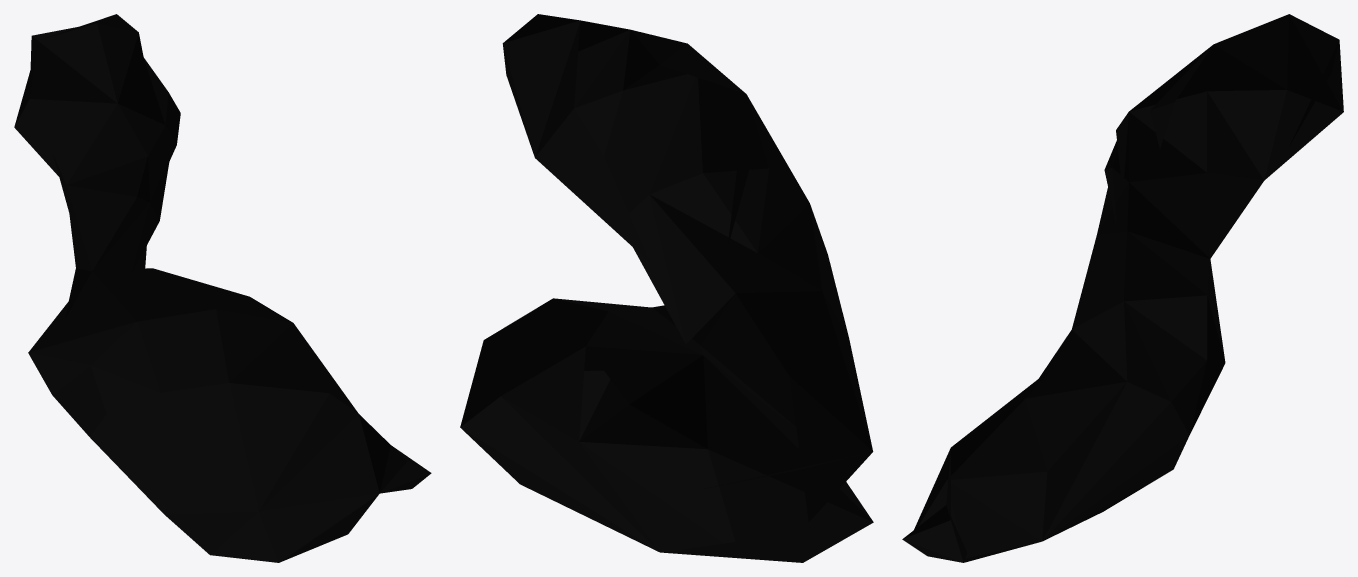
3 views of the same model, side by side, from view 1: azimuth 30°, elevation 25°; view 2: azimuth 150°, elevation 25°; view 3: azimuth 270°, elevation 25° (orthographic). The views are drawn at different scales.
Size of the model in its own units: 0.4071 by 0.5972 by 0.4764.
1 material, 1 textured.
